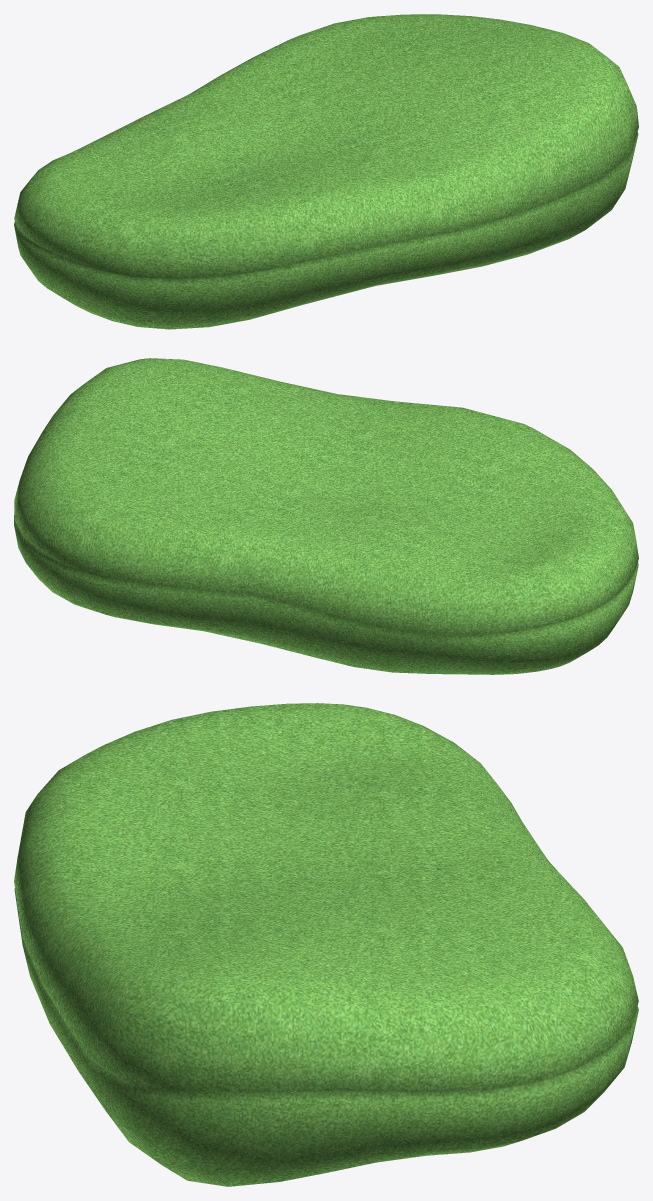
Rendered from yipeei i hate beans.fbx.
3 views of the same model, one above another, from view 1: azimuth 30°, elevation 25°; view 2: azimuth 150°, elevation 25°; view 3: azimuth 270°, elevation 25° (orthographic). The views are drawn at different scales.
Visible parts, largest first — view 1: mesh-0.001; view 2: mesh-0.001; view 3: mesh-0.001.
Boxes of the visible parts, x1,y1,x2,y2 form: mesh-0.001: (14, 14, 638, 329); mesh-0.001: (14, 358, 638, 674); mesh-0.001: (14, 703, 638, 1186).
Size of the model in its own units: 783682 by 224953 by 538888.
Materials: 1 (1 with a texture image).
